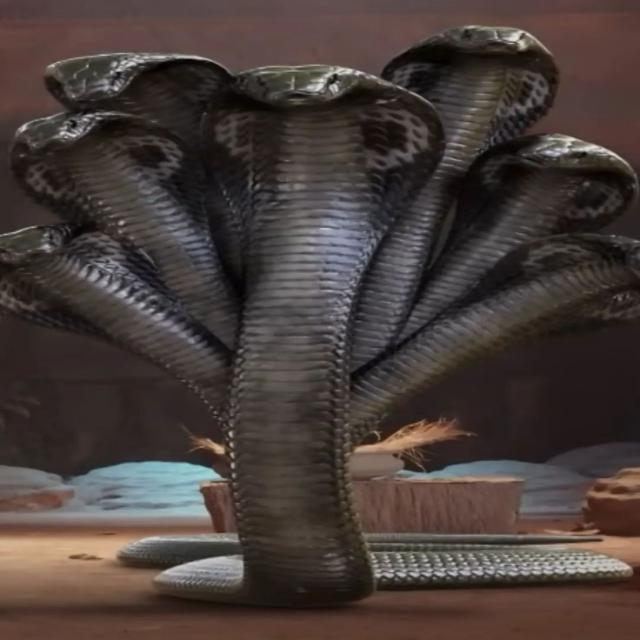Snake: (0, 0, 640, 611)
